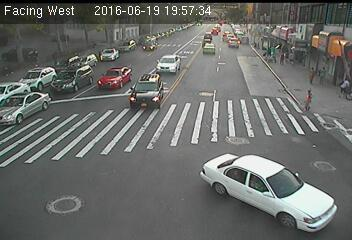neg: (101, 63, 121, 90), (205, 120, 224, 145), (222, 68, 240, 92), (119, 185, 137, 209), (210, 159, 227, 181), (62, 80, 78, 102), (171, 202, 187, 222), (167, 154, 182, 173), (169, 83, 183, 102), (117, 41, 131, 60), (118, 142, 132, 160), (79, 40, 93, 58), (151, 44, 164, 61), (125, 94, 138, 111), (202, 217, 214, 234), (129, 14, 141, 31), (79, 114, 91, 130), (163, 17, 175, 33), (157, 129, 168, 144), (224, 17, 234, 30), (193, 36, 202, 48)
pos: (299, 85, 319, 112), (302, 63, 318, 85), (312, 62, 328, 83), (337, 72, 351, 95), (277, 51, 288, 66)
